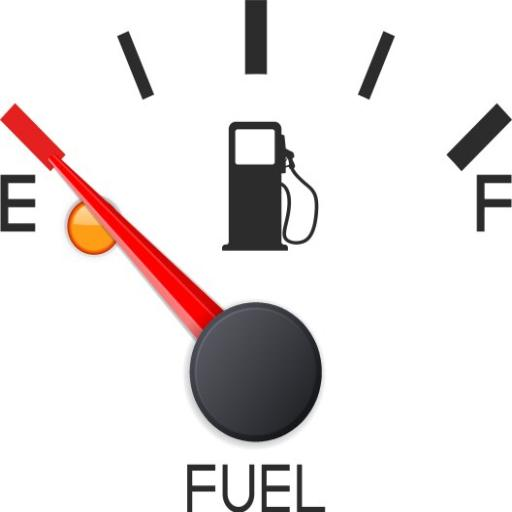empty: (0, 171, 37, 237)
fuel_icon: (222, 117, 314, 250)
full: (472, 173, 512, 235)
needle_center: (188, 298, 329, 442)
needle_tip: (45, 154, 90, 198)
